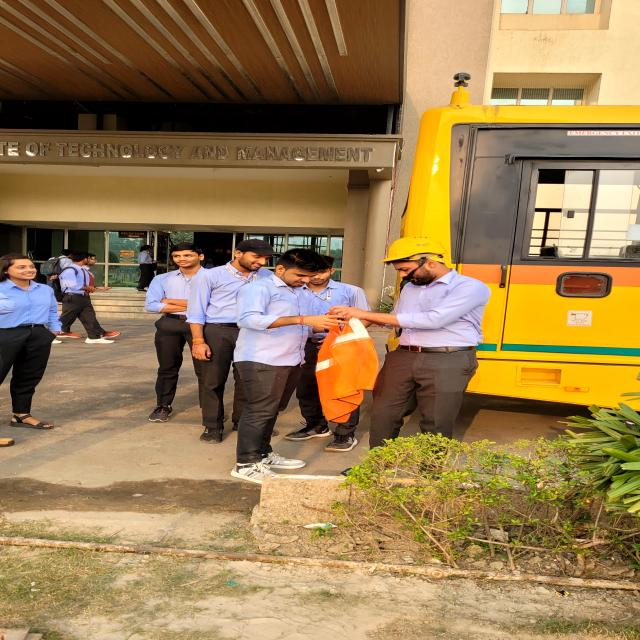no jacket: (374, 236, 490, 448)
unsafe: (225, 251, 332, 488), (192, 239, 282, 440), (0, 253, 59, 432), (148, 244, 204, 428), (59, 251, 121, 346)
